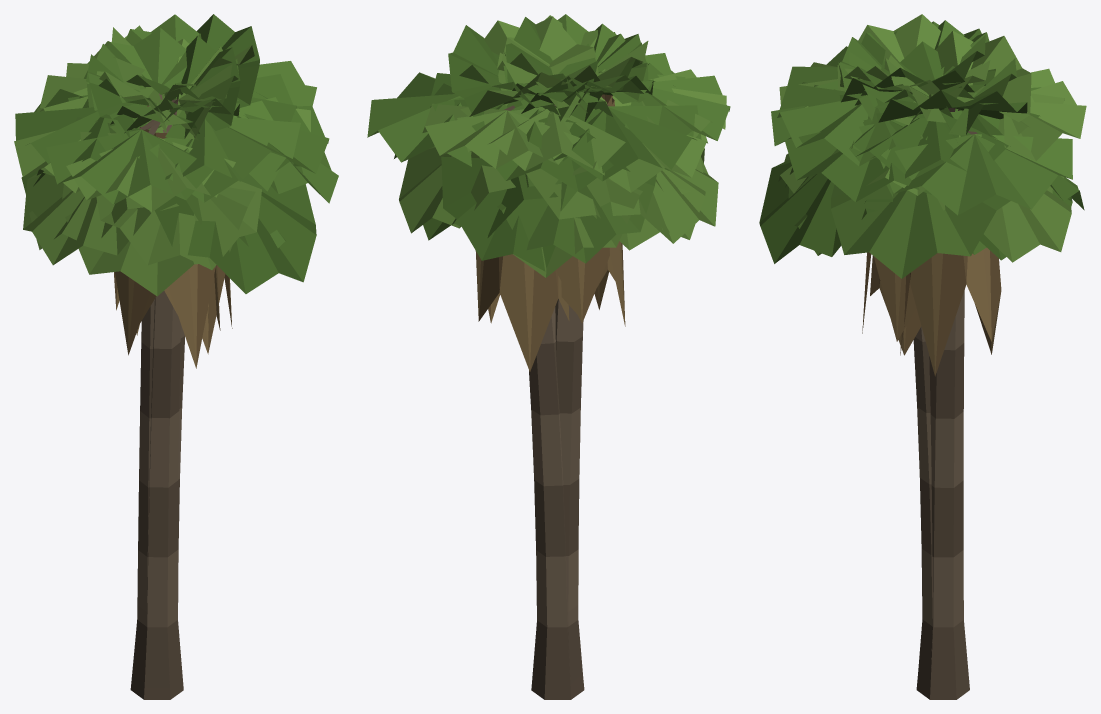
Rendered from fanpalm.glb.
3 views of the same model, side by side, from view 1: azimuth 30°, elevation 25°; view 2: azimuth 150°, elevation 25°; view 3: azimuth 270°, elevation 25° (orthographic).
Visible parts, largest first — view 1: fanpalm_v2, fanpalm_v0, fanpalm_v1; view 2: fanpalm_v1, fanpalm_v0, fanpalm_v2; view 3: fanpalm_v1, fanpalm_v2, fanpalm_v0.
Part boxes in pixels (left/top/right/bottom): fanpalm_v2: left=15, top=35, right=329, bottom=699; fanpalm_v0: left=14, top=27, right=300, bottom=611; fanpalm_v1: left=66, top=14, right=338, bottom=699; fanpalm_v1: left=367, top=16, right=631, bottom=699; fanpalm_v0: left=423, top=15, right=726, bottom=621; fanpalm_v2: left=454, top=14, right=730, bottom=684; fanpalm_v1: left=831, top=31, right=1086, bottom=699; fanpalm_v2: left=759, top=14, right=1041, bottom=670; fanpalm_v0: left=777, top=21, right=1072, bottom=355.
Size of the model in its own units: 5.27 by 11 by 5.03.
